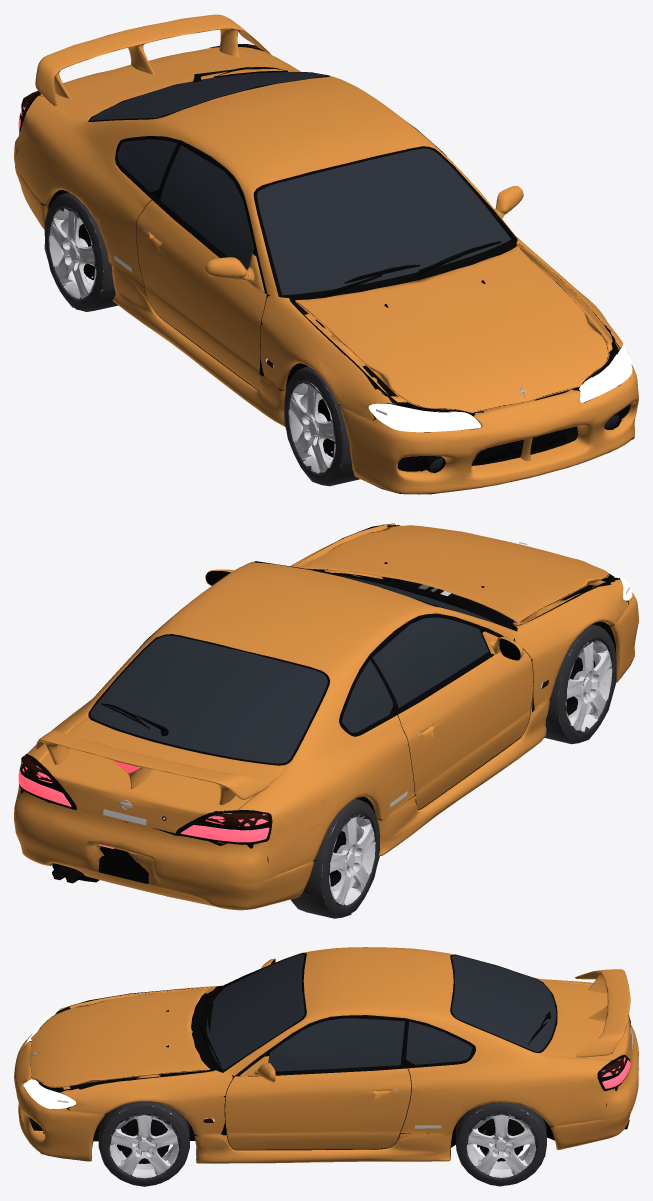
File: silvia.glb
3 renders of one model, top to bottom at view 1: azimuth 30°, elevation 25°; view 2: azimuth 150°, elevation 25°; view 3: azimuth 270°, elevation 25°, orthographic. The views are drawn at different scales.
Visible parts, largest first — view 1: N:Boot6_Mesh_008_M_Badge_Max_001_N:M_Badge_Max1_0, silvia_wheel_RR.001, silvia_wheel_FR.001; view 2: N:Boot6_Mesh_008_M_Badge_Max_001_N:M_Badge_Max1_0, silvia_wheel_RR.001, silvia_wheel_FR.001; view 3: N:Boot6_Mesh_008_M_Badge_Max_001_N:M_Badge_Max1_0, silvia_wheel_FL.001, silvia_wheel_RL.001.
Boxes of the visible parts, x1,y1,x2,y2 form: N:Boot6_Mesh_008_M_Badge_Max_001_N:M_Badge_Max1_0: (14, 14, 638, 494); silvia_wheel_RR.001: (44, 192, 118, 311); silvia_wheel_FR.001: (284, 366, 359, 486); N:Boot6_Mesh_008_M_Badge_Max_001_N:M_Badge_Max1_0: (14, 523, 638, 910); silvia_wheel_RR.001: (290, 799, 380, 918); silvia_wheel_FR.001: (544, 624, 616, 744); N:Boot6_Mesh_008_M_Badge_Max_001_N:M_Badge_Max1_0: (14, 947, 638, 1163); silvia_wheel_FL.001: (98, 1101, 189, 1186); silvia_wheel_RL.001: (456, 1102, 547, 1186).
Size of the model in its own units: 1.94 by 1.28 by 4.43.
